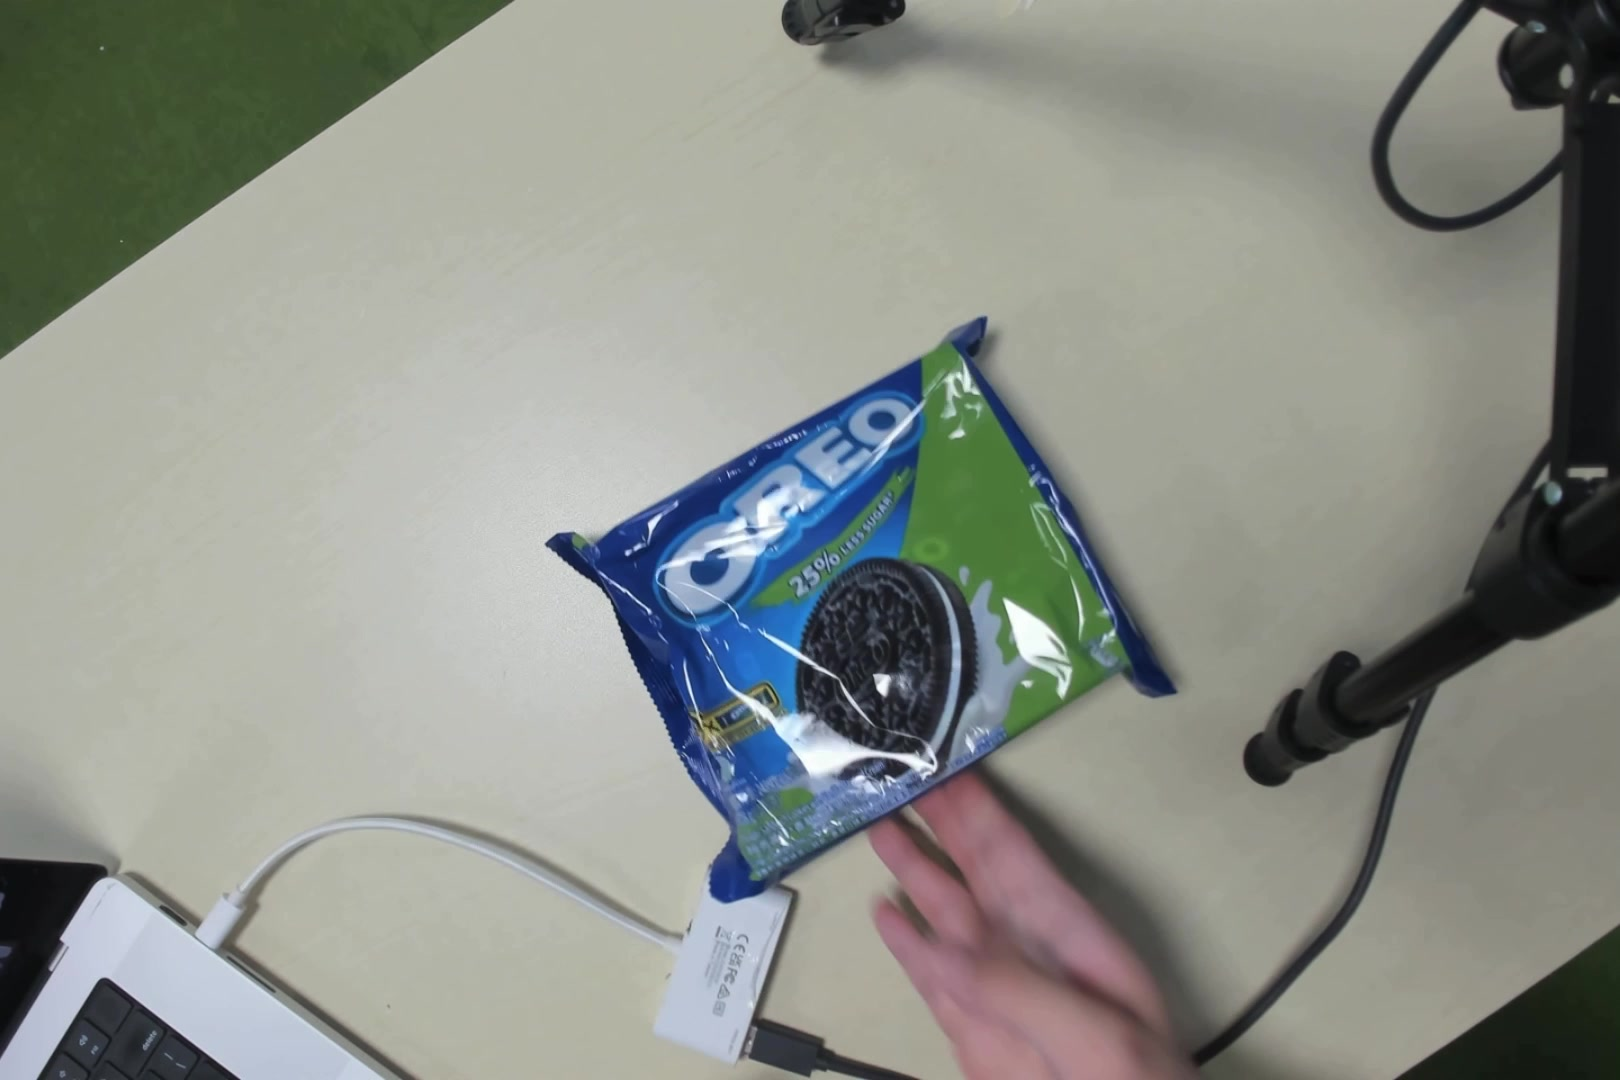SweetsChocolatesOthers_200-299g_Halal_NonHealthy: (645, 381, 1040, 803)
